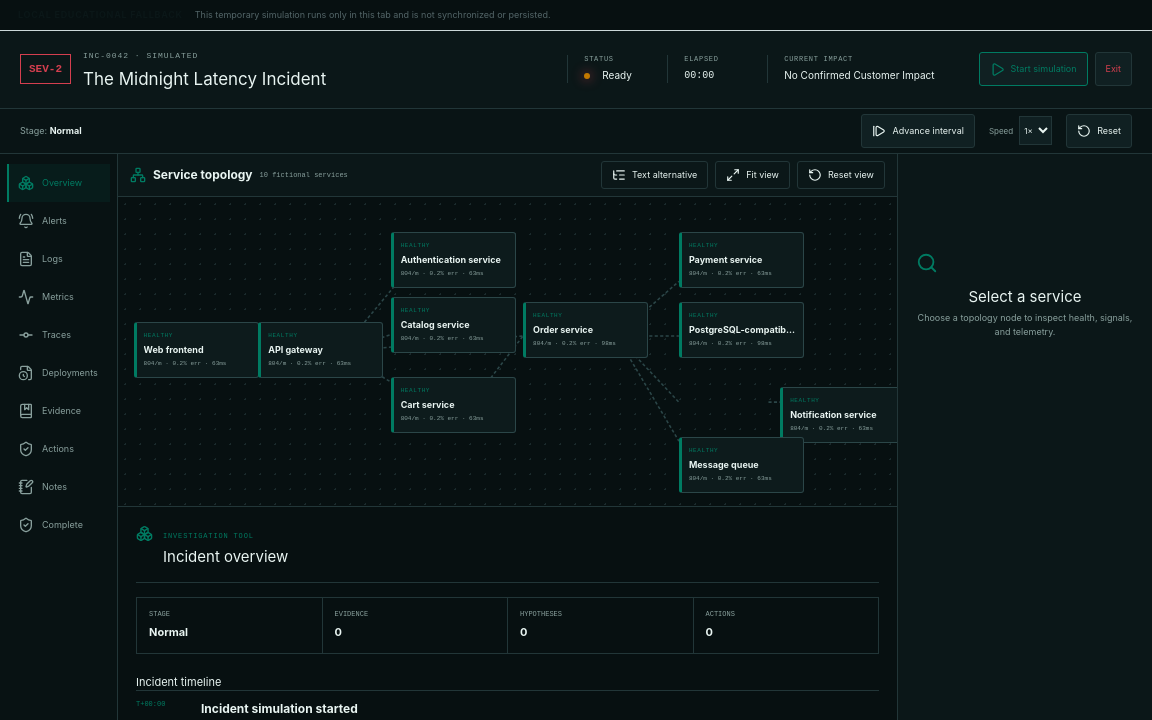
it: operations workspace › supports single step, reset confirmation, and reduced-motion preference
What coordinates should you click on to do the following:
click the button "Advance interval"
I would click on:
 (918, 130)
Its box is [861,114,975,148].
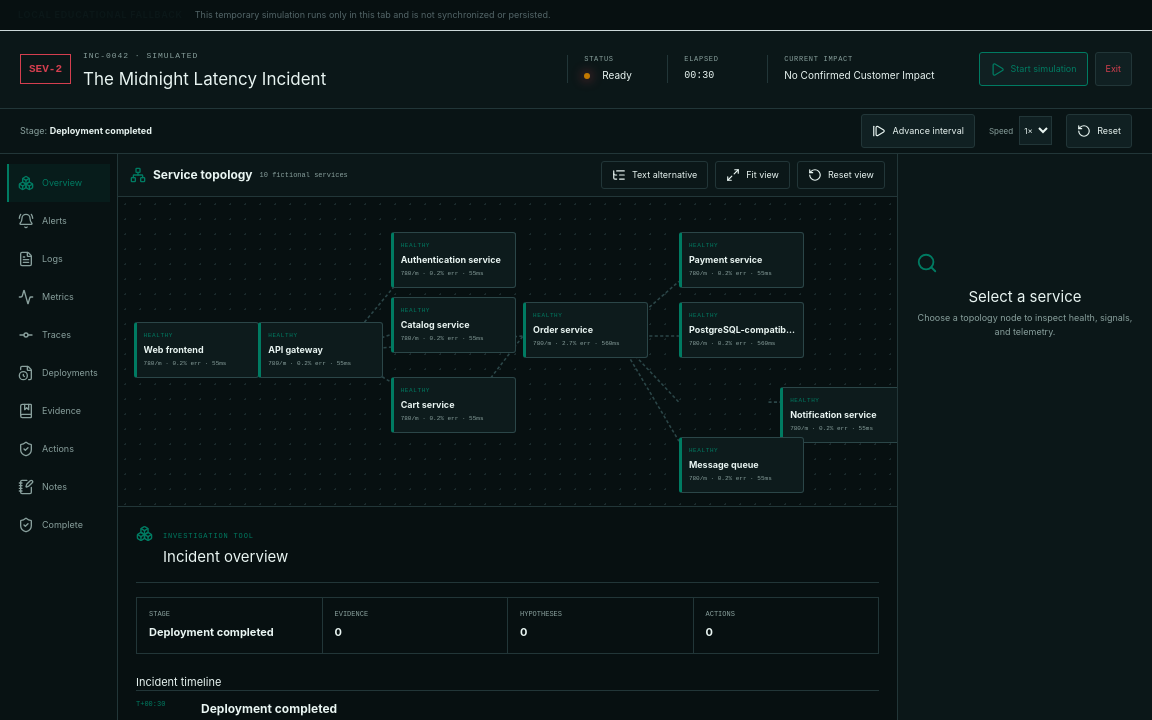
Result: the text "Deployment completed" next to "Stage:" is shown at [50,125,152,136]
What coordinates should you click on to do the following:
click the button "Reset"
I would click on:
 (1099, 130)
Its box is [1066,114,1132,148].
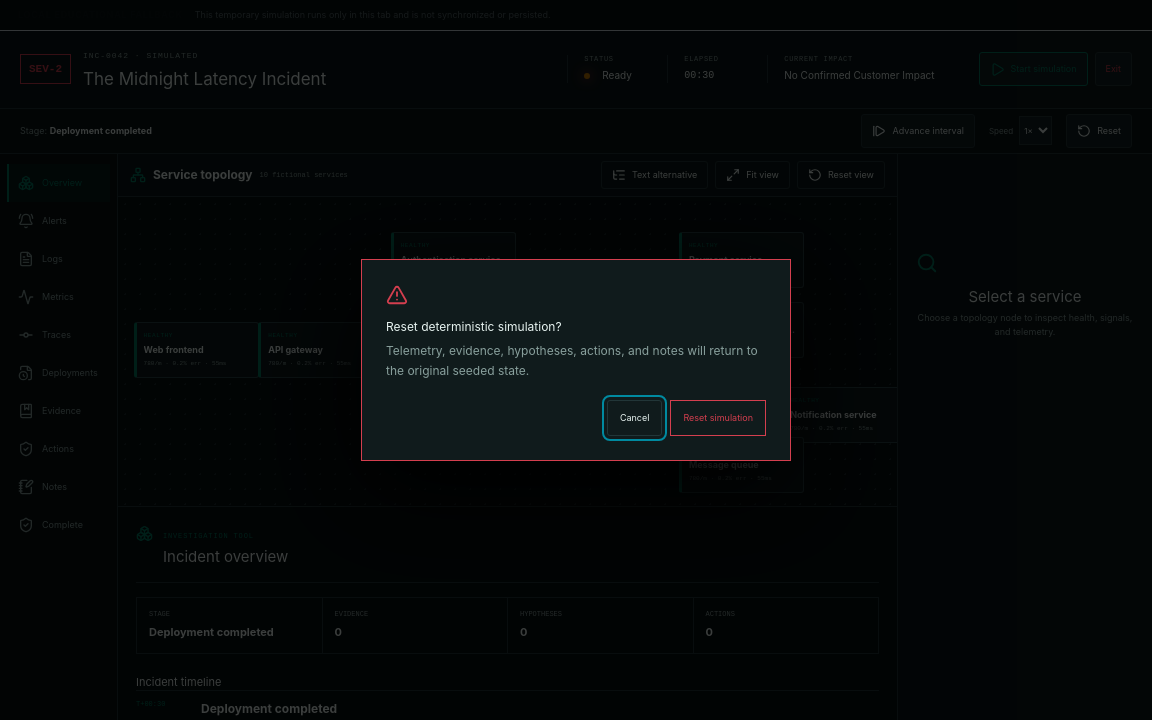
Result: the dialog is shown at [361,259,791,461]
What coordinates should you click on to do the following:
click the button "Reset simulation"
I would click on:
 (718, 418)
Its box is [670,400,766,436].
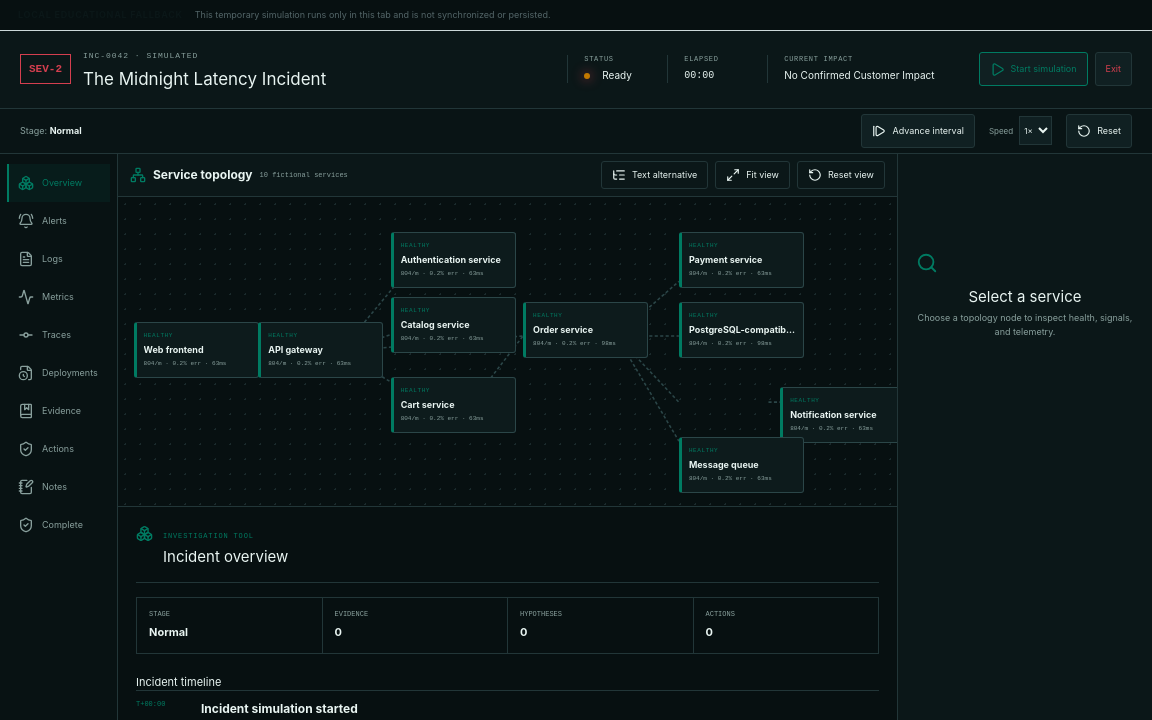
Result: the text "Normal" next to "Stage:" is shown at [50,125,82,136]
